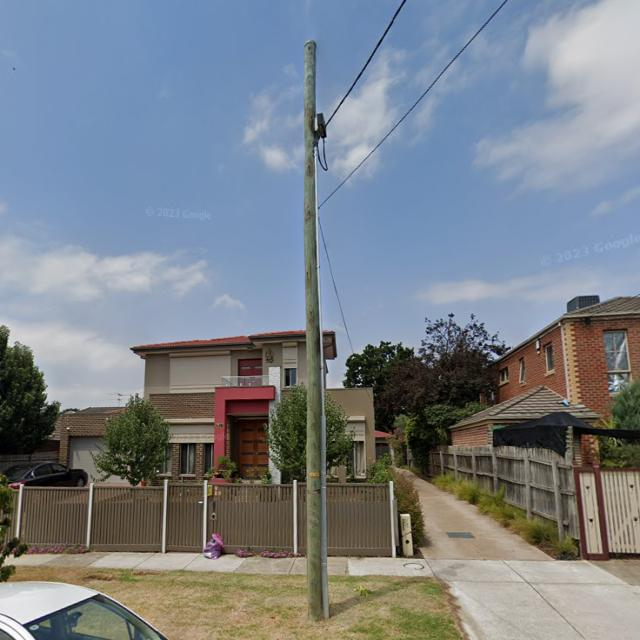timber-pole: (302, 39, 331, 620)
